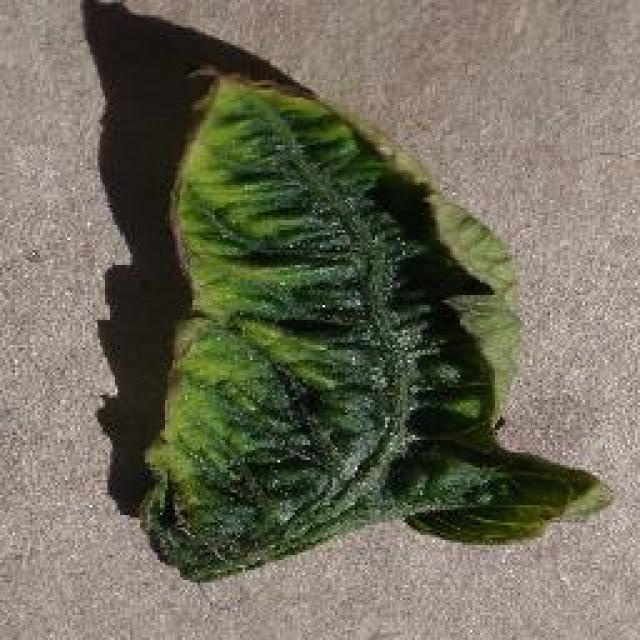Tom_Yellow_Leaf_Curl_Virus: (132, 90, 566, 564)
